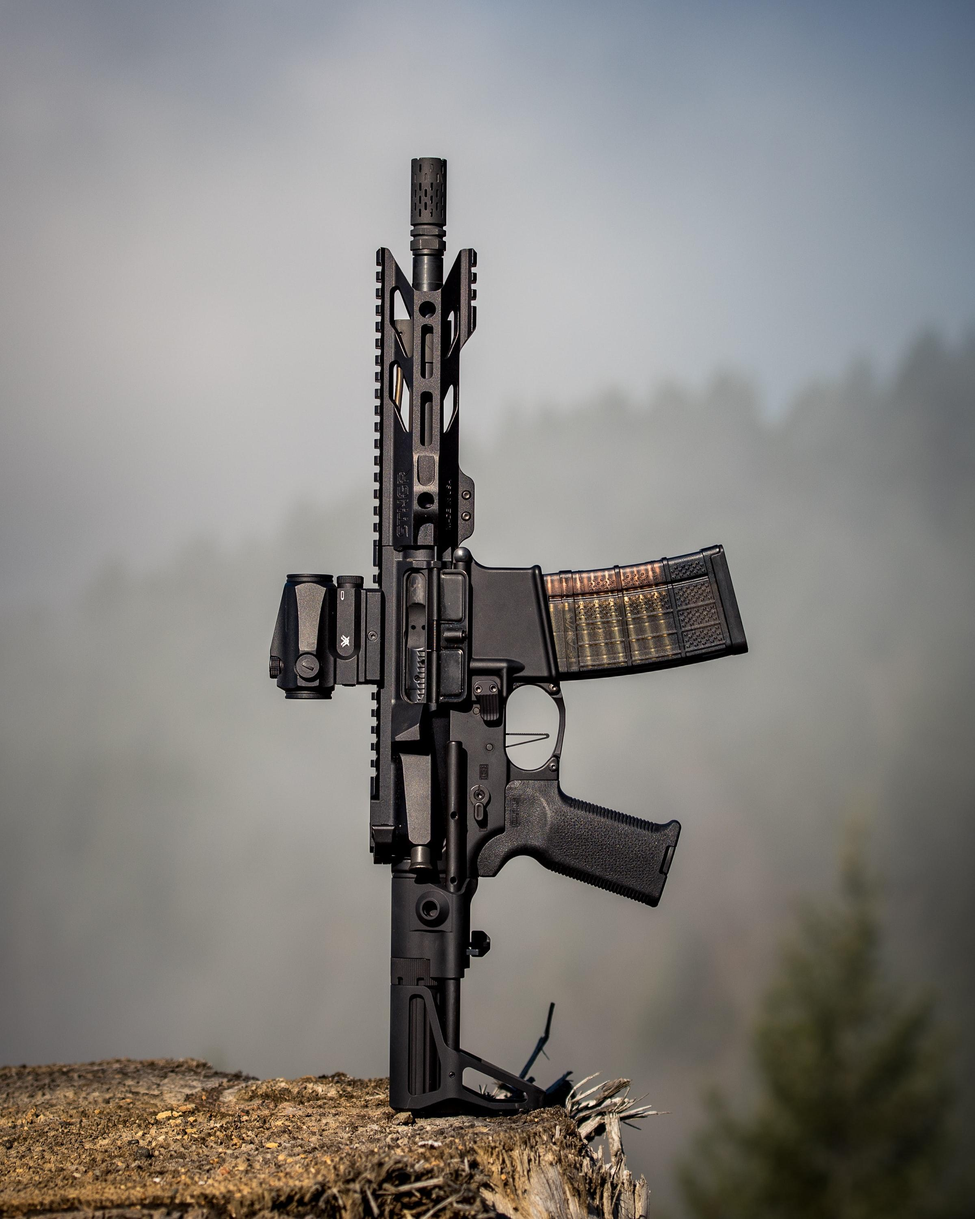larga: (267, 158, 750, 1121)
